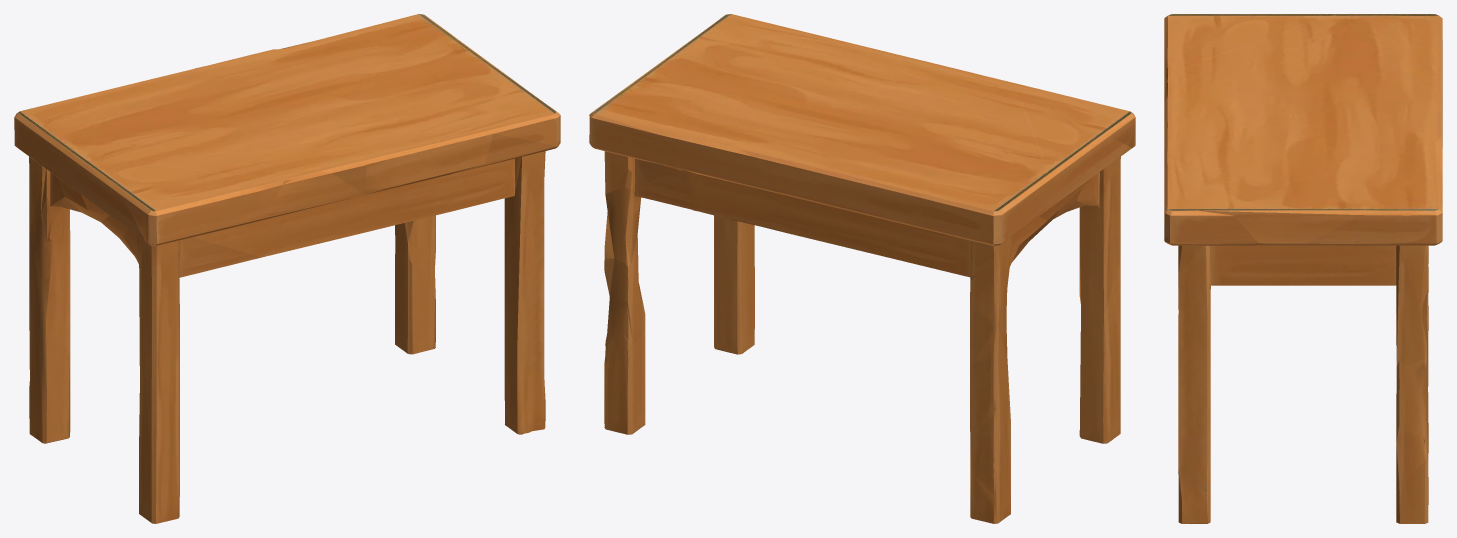
File: desk.glb
3 views of the same model, side by side, from view 1: azimuth 30°, elevation 25°; view 2: azimuth 150°, elevation 25°; view 3: azimuth 270°, elevation 25° (orthographic).
Bounding box in the file's own units: 1.9 × 1.4 × 1.12.
1 material, 1 textured.
